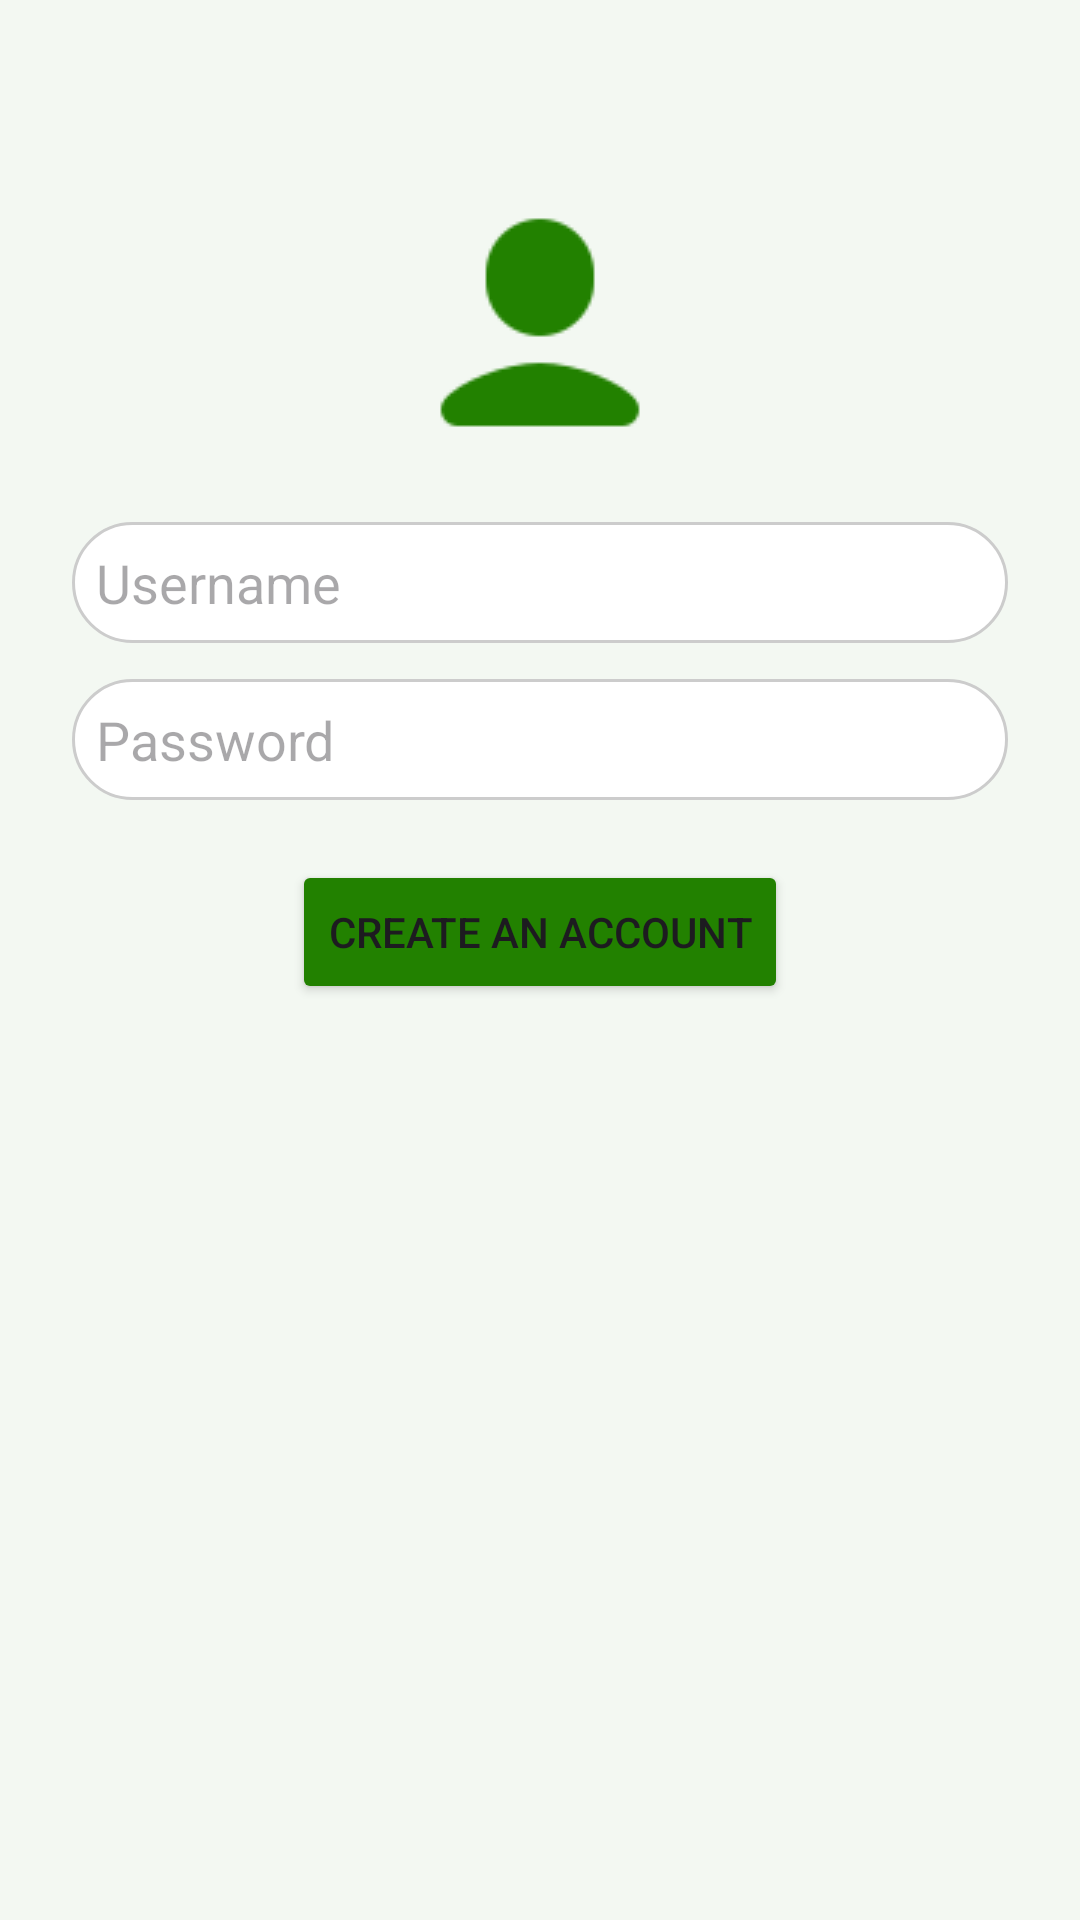

Icon bounding boxes for this 1080x1920 phone screenshot, format bbox=(x1, y1, x2, y2):
Icône utilisateur: bbox=(440, 218, 640, 427)
